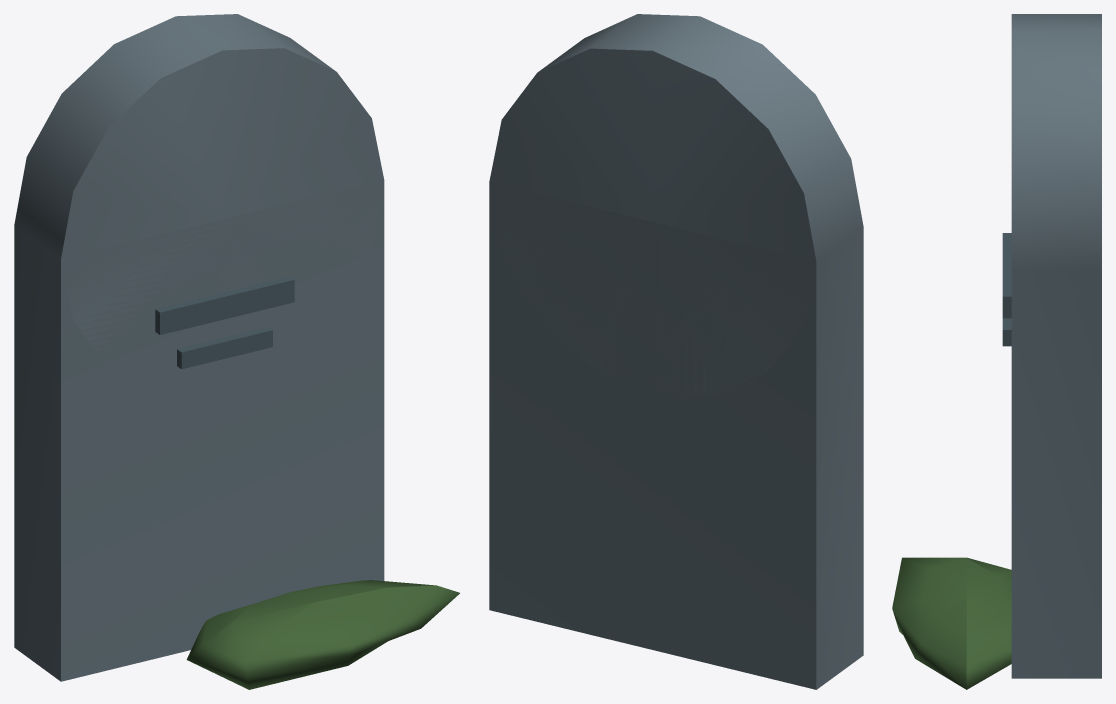
File: lapide_a.glb
The picture shows the model from 3 angles, left to right: view 1: azimuth 30°, elevation 25°; view 2: azimuth 150°, elevation 25°; view 3: azimuth 270°, elevation 25°; orthographic projection. The views are drawn at different scales.
Parts seen in each view (by area): view 1: Prop; view 2: Prop; view 3: Prop.
Boxes of the visible parts, x1,y1,x2,y2 form: Prop: [14, 14, 459, 689]; Prop: [489, 14, 863, 689]; Prop: [892, 14, 1101, 689].
Bounding box in the file's own units: 1.4 × 2.15 × 0.6982.
